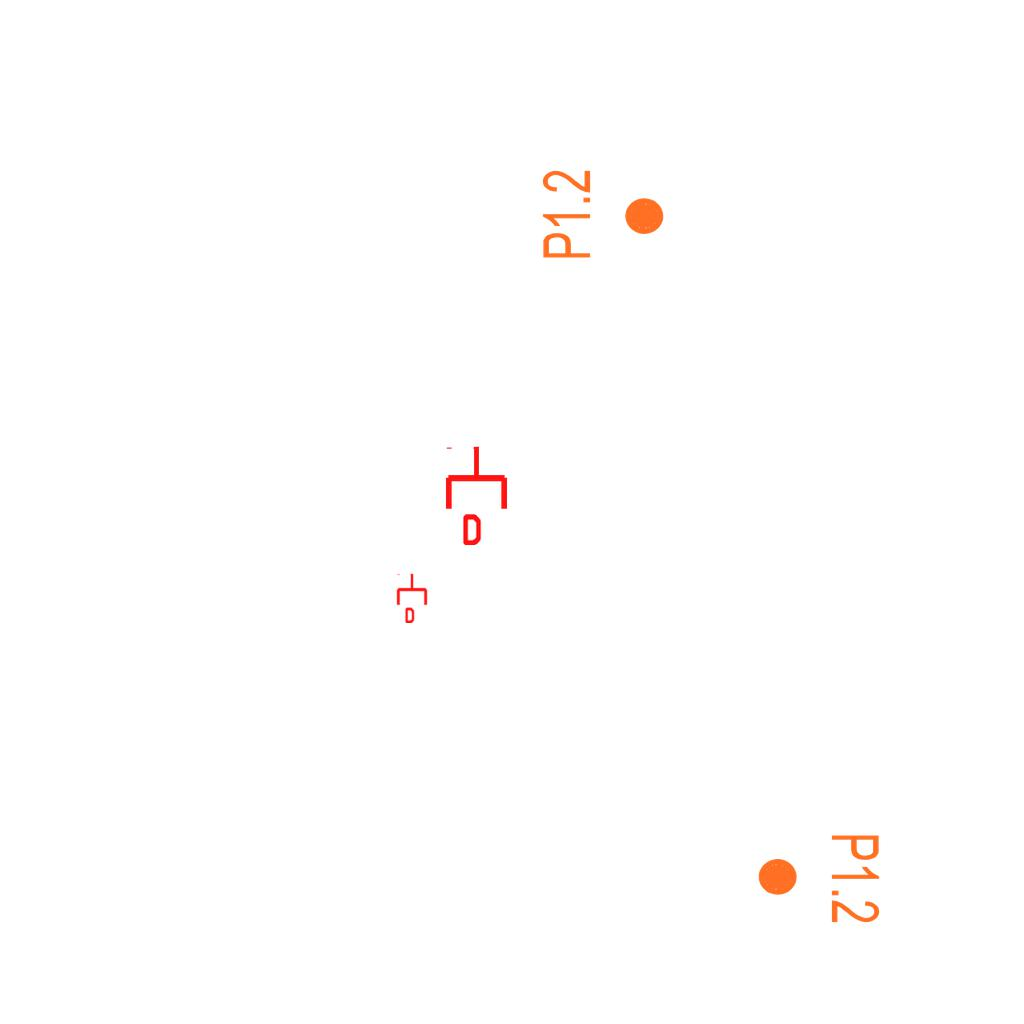Datenanschluss_einfach: (442, 445, 511, 545), (395, 573, 429, 623)
Downlight_LED_Einbauleuchten_Flur: (539, 168, 667, 261), (755, 832, 883, 925)
